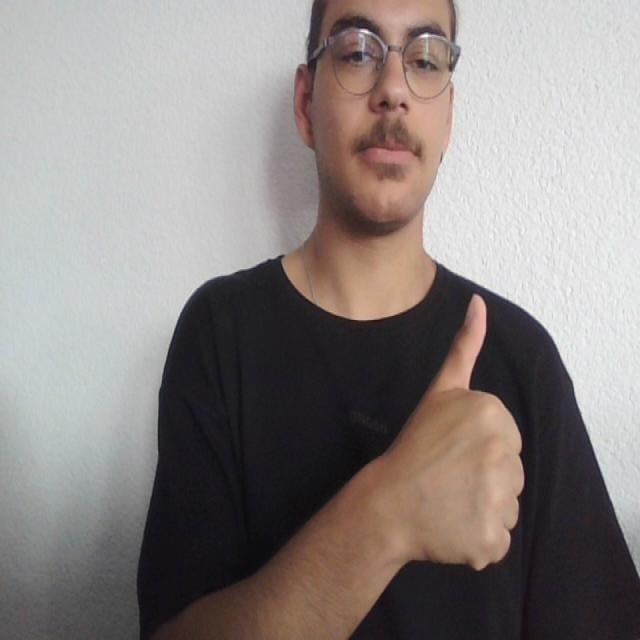Tamam: (377, 287, 532, 584)
